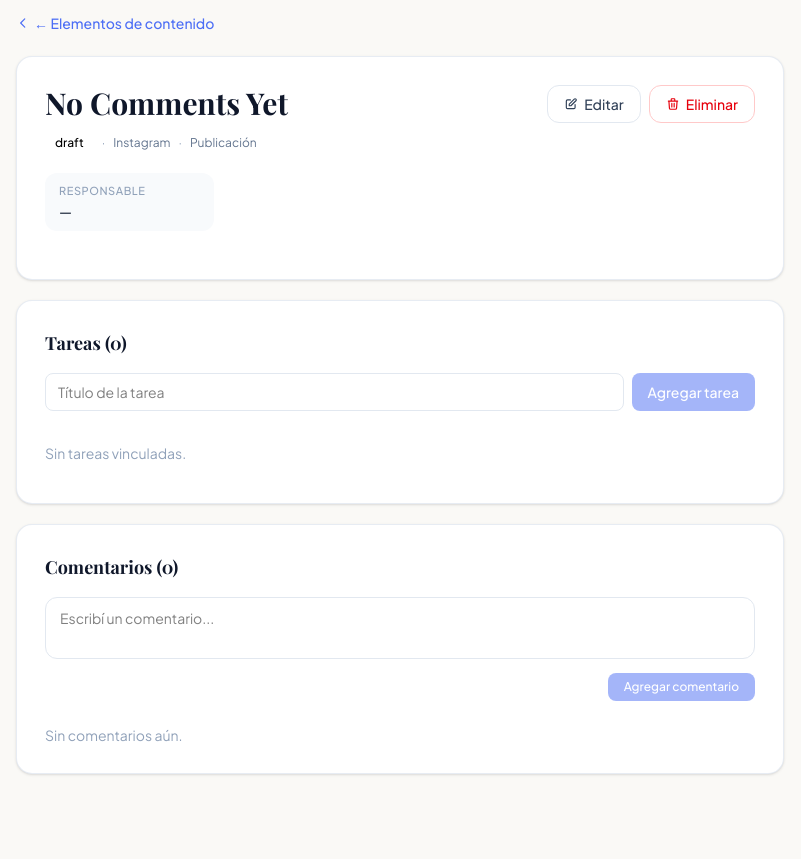
Test: ContentDetail — navigation/import behavior preservation (lint hardening) › handleAddComment: coalesces prev.comments to [] when comments absent from API response
Expected: the heading "No Comments Yet" is shown, x1=45 y1=83 x2=288 y2=123
Expected: the heading "Comentarios (0)" is shown, x1=45 y1=555 x2=178 y2=579
Fill in comment form
Type "My first comment" into the text box with placeholder "Escribí un comentario...".
click(400, 628); type("My first comment")  # box x1=45 y1=597 x2=755 y2=659
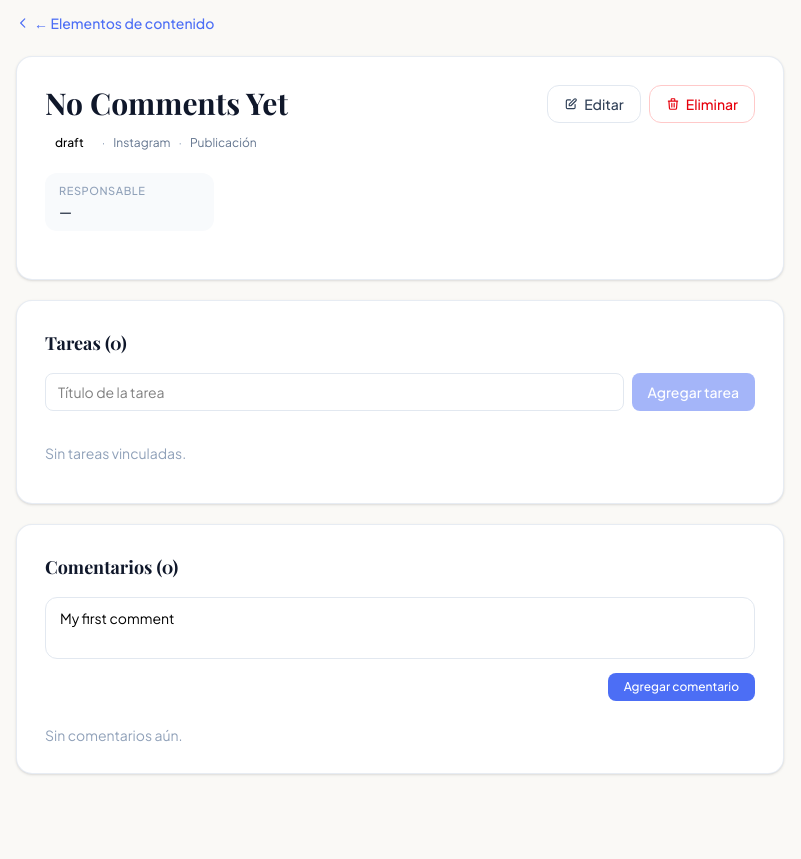
Submit the form
Click the button "Agregar comentario".
click(681, 687)  # box x1=608 y1=673 x2=755 y2=701
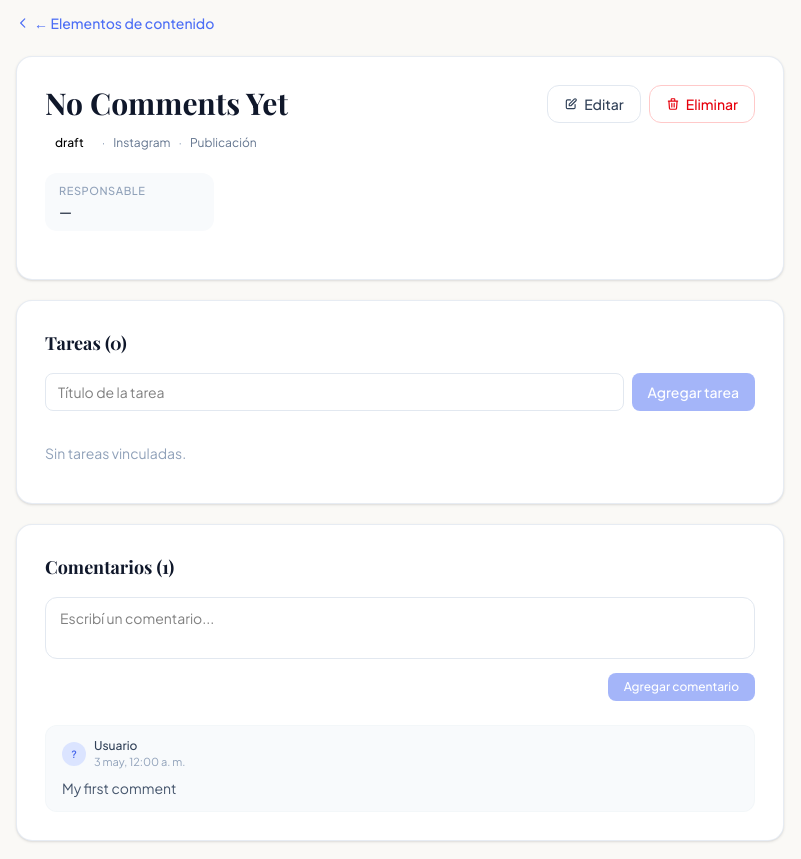
Expected: the text box "My first comment" is shown, x1=45 y1=597 x2=755 y2=659
Expected: the heading "Comentarios (1)" is shown, x1=45 y1=555 x2=174 y2=579
